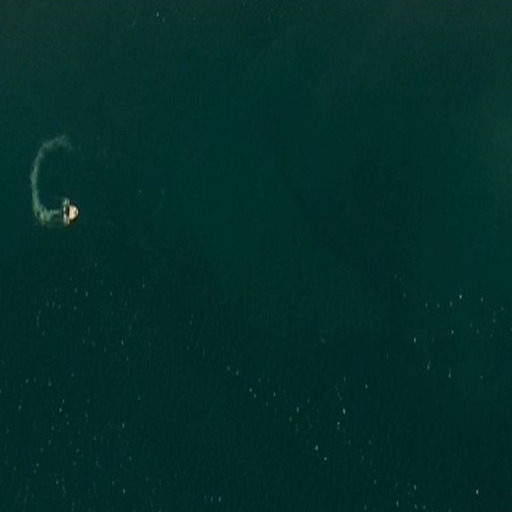ship: (60, 201, 80, 224)
